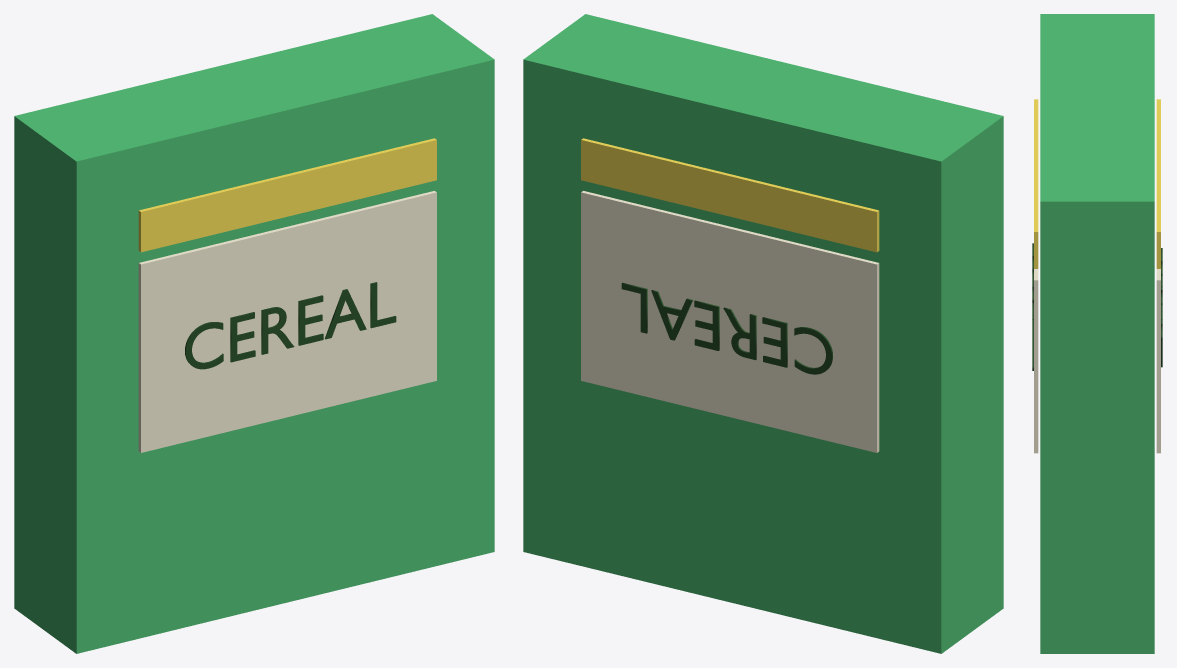
File: CerealBoxGreen.dae
3 renders of one model, left to right at view 1: azimuth 30°, elevation 25°; view 2: azimuth 150°, elevation 25°; view 3: azimuth 270°, elevation 25°, orthographic. The views are drawn at different scales.
Visible parts, largest first — view 1: CerealBox_Green, CEREAL_label_panel, CEREAL_label_stripe, CEREAL_label_text; view 2: CerealBox_Green, CEREAL_label_panel.001, CEREAL_label_stripe.001, CEREAL_label_text.001; view 3: CerealBox_Green, CEREAL_label_panel, CEREAL_label_panel.001, CEREAL_label_stripe, CEREAL_label_stripe.001, CEREAL_label_text, CEREAL_label_text.001.
Boxes of the visible parts, box(x1,y1,x2,y2) form: CerealBox_Green: box(14, 14, 494, 653); CEREAL_label_panel: box(138, 191, 436, 452); CEREAL_label_stripe: box(138, 138, 436, 252); CEREAL_label_text: box(185, 282, 396, 369); CerealBox_Green: box(523, 14, 1003, 653); CEREAL_label_panel.001: box(581, 191, 879, 452); CEREAL_label_stripe.001: box(581, 138, 879, 252); CEREAL_label_text.001: box(621, 282, 832, 374); CerealBox_Green: box(1040, 14, 1154, 653); CEREAL_label_panel: box(1034, 269, 1038, 453); CEREAL_label_panel.001: box(1156, 269, 1160, 453); CEREAL_label_stripe: box(1034, 99, 1038, 268); CEREAL_label_stripe.001: box(1156, 99, 1160, 268); CEREAL_label_text: box(1032, 243, 1033, 370); CEREAL_label_text.001: box(1161, 248, 1162, 367).
Size of the model in its own units: 0.1626 by 0.0477 by 0.1829.
